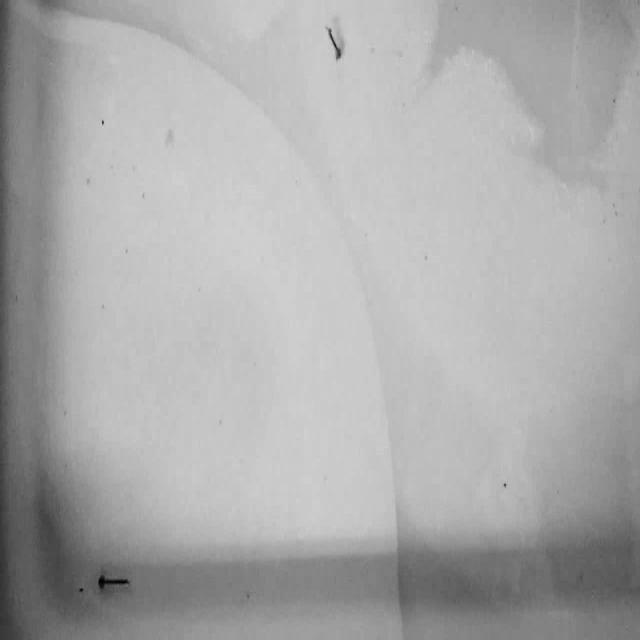larvas: (92, 570, 133, 593), (325, 26, 341, 60)
